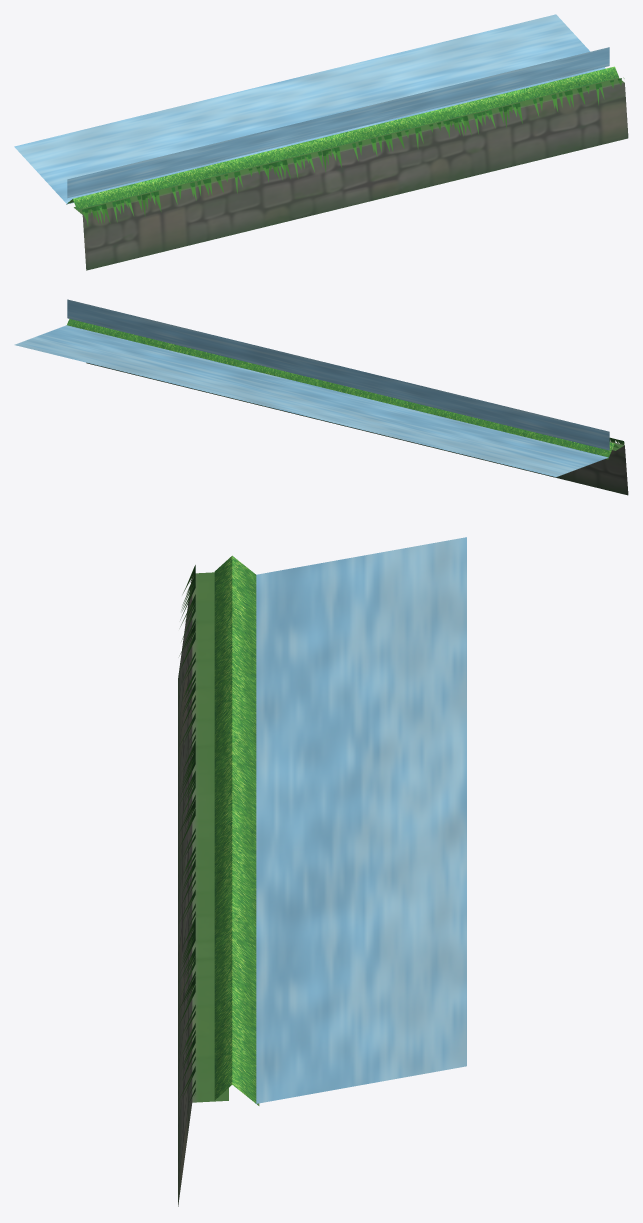
Rendered from terrace_straight_flooded_far.glb.
The picture shows the model from 3 angles, top to bottom: view 1: azimuth 30°, elevation 25°; view 2: azimuth 150°, elevation 25°; view 3: azimuth 270°, elevation 25°; orthographic projection. The views are drawn at different scales.
Parts seen in each view (by area): view 1: terrace_straight_flooded_far_water, terrace_straight_flooded_far_wall, terrace_straight_flooded_far_dike, terrace_straight_flooded_far_cards; view 2: terrace_straight_flooded_far_water, terrace_straight_flooded_far_dike, terrace_straight_flooded_far_wall; view 3: terrace_straight_flooded_far_water, terrace_straight_flooded_far_dike, terrace_straight_flooded_far_wall, terrace_straight_flooded_far_cards.
Part boxes in pixels (box(x1,y1,x2,y2)): terrace_straight_flooded_far_water: box(14, 14, 609, 203); terrace_straight_flooded_far_wall: box(74, 78, 628, 270); terrace_straight_flooded_far_dike: box(66, 66, 618, 209); terrace_straight_flooded_far_cards: box(82, 77, 624, 225); terrace_straight_flooded_far_water: box(14, 299, 609, 477); terrace_straight_flooded_far_dike: box(67, 319, 618, 459); terrace_straight_flooded_far_wall: box(86, 362, 628, 495); terrace_straight_flooded_far_water: box(255, 537, 466, 1103); terrace_straight_flooded_far_dike: box(214, 555, 259, 1105); terrace_straight_flooded_far_wall: box(178, 572, 228, 1206); terrace_straight_flooded_far_cards: box(179, 565, 195, 1102).
Bounding box in the file's own units: 12 × 1.64 × 2.79.
3 materials, 3 textured.
